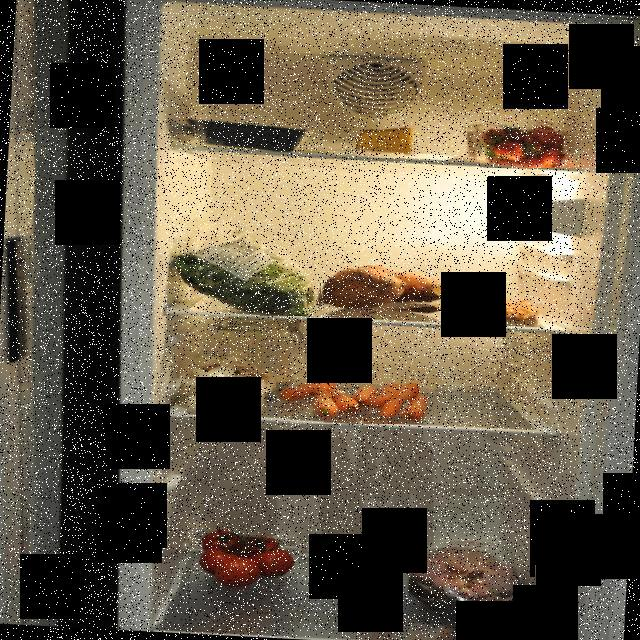carrot: (276, 372, 436, 424)
cheese: (356, 122, 418, 158)
chicken: (395, 536, 535, 620)
flour: (212, 319, 304, 387)
mushrooms: (180, 350, 282, 416)
shrimp: (458, 292, 546, 324)
spinach: (162, 228, 324, 316)
strawberries: (469, 116, 580, 168)
sweet_potato: (320, 266, 452, 318)
tomato: (196, 528, 298, 594)
